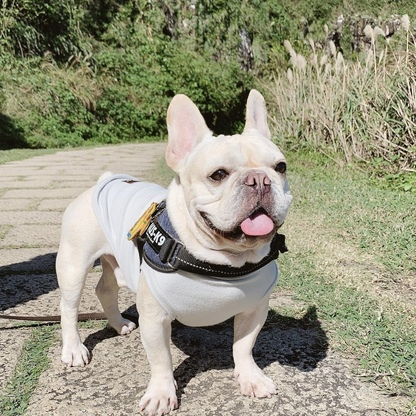bulldog: (52, 84, 289, 416)
